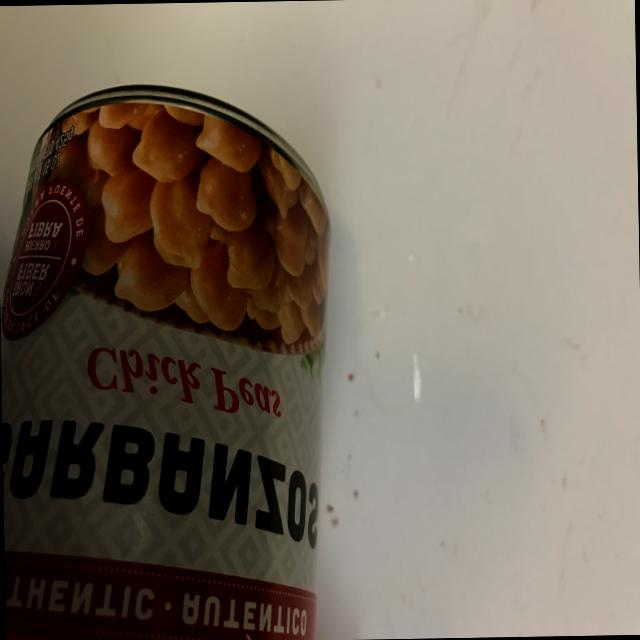Metal: (0, 68, 344, 640)
